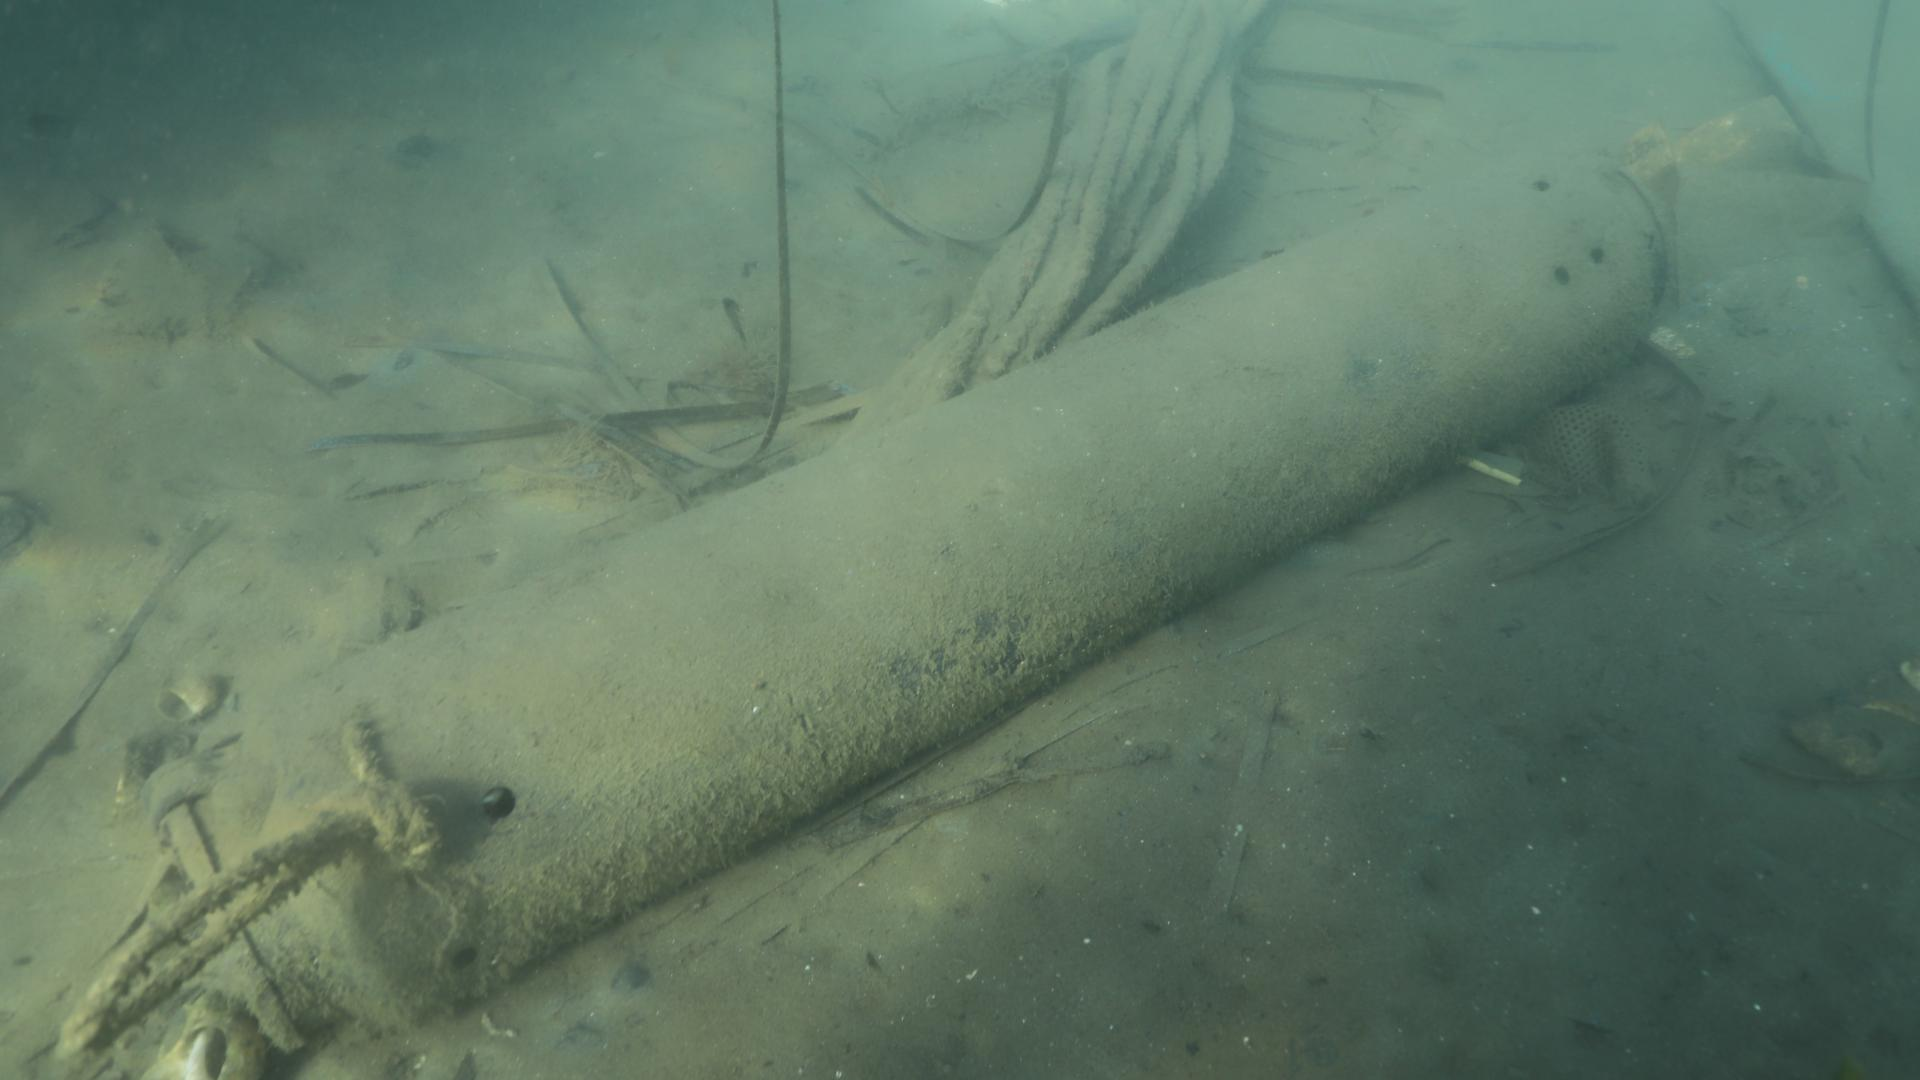bundle of ropes: (839, 0, 1279, 442), (57, 707, 447, 1062)
eel fish trap: (160, 154, 1671, 1052)
